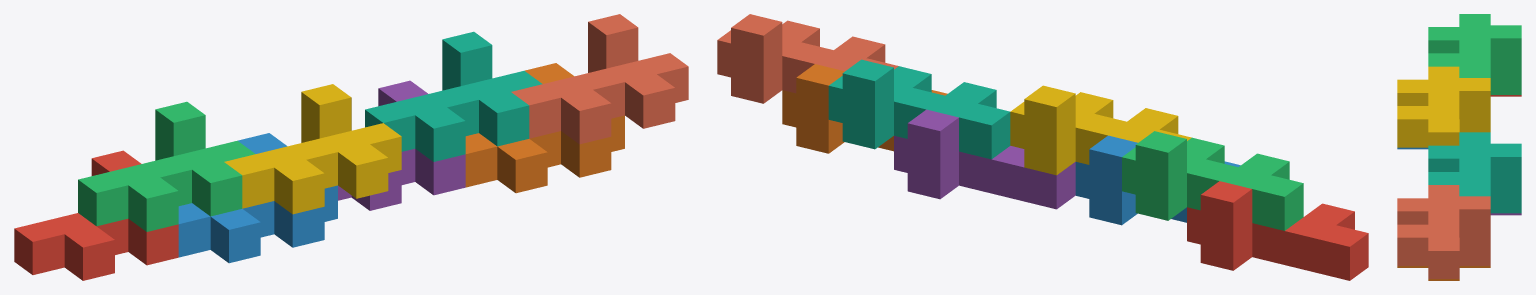
The model's file is tiling.obj.
The picture shows the model from 3 angles, left to right: view 1: azimuth 30°, elevation 25°; view 2: azimuth 150°, elevation 25°; view 3: azimuth 270°, elevation 25°; orthographic projection. The views are drawn at different scales.
Visible parts, largest first — view 1: copy_1_domain_3, copy_1_domain_8, copy_1_domain_4, copy_1_domain_7, copy_1_domain_1, copy_1_domain_6, copy_1_domain_2, copy_1_domain_5; view 2: copy_1_domain_1, copy_1_domain_7, copy_1_domain_3, copy_1_domain_5, copy_1_domain_4, copy_1_domain_8, copy_1_domain_2, copy_1_domain_6; view 3: copy_1_domain_8, copy_1_domain_4, copy_1_domain_7, copy_1_domain_3, copy_1_domain_6, copy_1_domain_5, copy_1_domain_2.
Part boxes in pixels (x1,y1,x2,y2): copy_1_domain_3: (78, 101, 255, 231); copy_1_domain_8: (511, 14, 688, 144); copy_1_domain_4: (224, 84, 401, 214); copy_1_domain_7: (365, 31, 542, 161); copy_1_domain_1: (14, 150, 178, 280); copy_1_domain_6: (465, 63, 624, 193); copy_1_domain_2: (178, 133, 337, 263); copy_1_domain_5: (338, 80, 465, 210); copy_1_domain_1: (1187, 181, 1368, 280); copy_1_domain_7: (828, 59, 1010, 159); copy_1_domain_3: (1122, 131, 1303, 230); copy_1_domain_5: (894, 109, 1075, 209); copy_1_domain_4: (1010, 85, 1191, 175); copy_1_domain_8: (717, 14, 898, 103); copy_1_domain_2: (1075, 135, 1240, 225); copy_1_domain_6: (782, 64, 947, 153); copy_1_domain_8: (1397, 185, 1490, 278); copy_1_domain_4: (1397, 66, 1490, 147); copy_1_domain_7: (1428, 132, 1521, 213); copy_1_domain_3: (1428, 14, 1521, 94); copy_1_domain_6: (1397, 266, 1490, 280); copy_1_domain_5: (1490, 213, 1521, 215); copy_1_domain_2: (1397, 147, 1428, 149).
Bounding box in the file's own units: 20 × 3 × 4.
